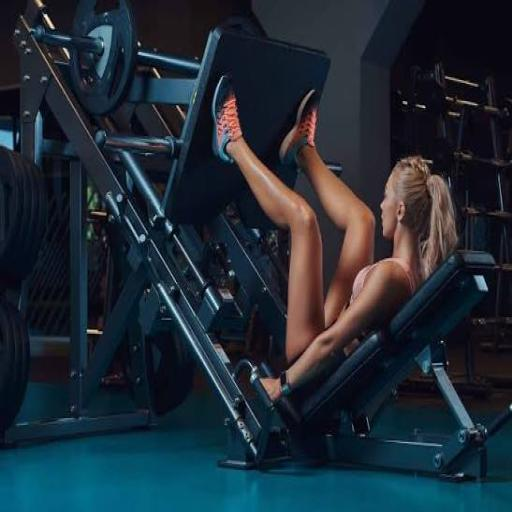Leg Press: (48, 40, 480, 443)
